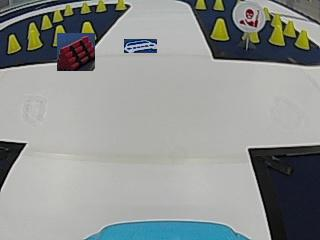evil: (233, 1, 265, 33)
